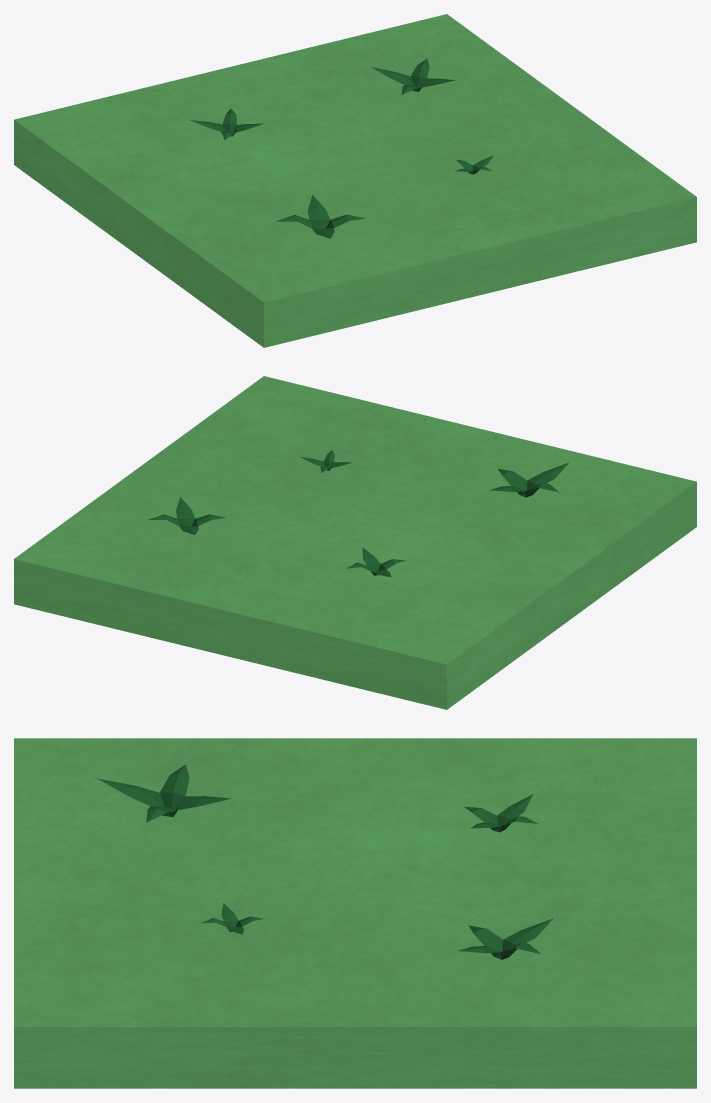
Rendered from ground_grass.glb.
3 views of the same model, one above another, from view 1: azimuth 30°, elevation 25°; view 2: azimuth 150°, elevation 25°; view 3: azimuth 270°, elevation 25° (orthographic). The views are drawn at different scales.
Parts seen in each view (by area): view 1: Floor1; view 2: Floor1; view 3: Floor1.
Boxes of the visible parts, x1=… form: Floor1: x1=14, y1=14, x2=696, y2=347; Floor1: x1=14, y1=376, x2=696, y2=709; Floor1: x1=14, y1=738, x2=696, y2=1088.
Size of the model in its own units: 2 by 0.289 by 2.
2 materials, 1 textured.
